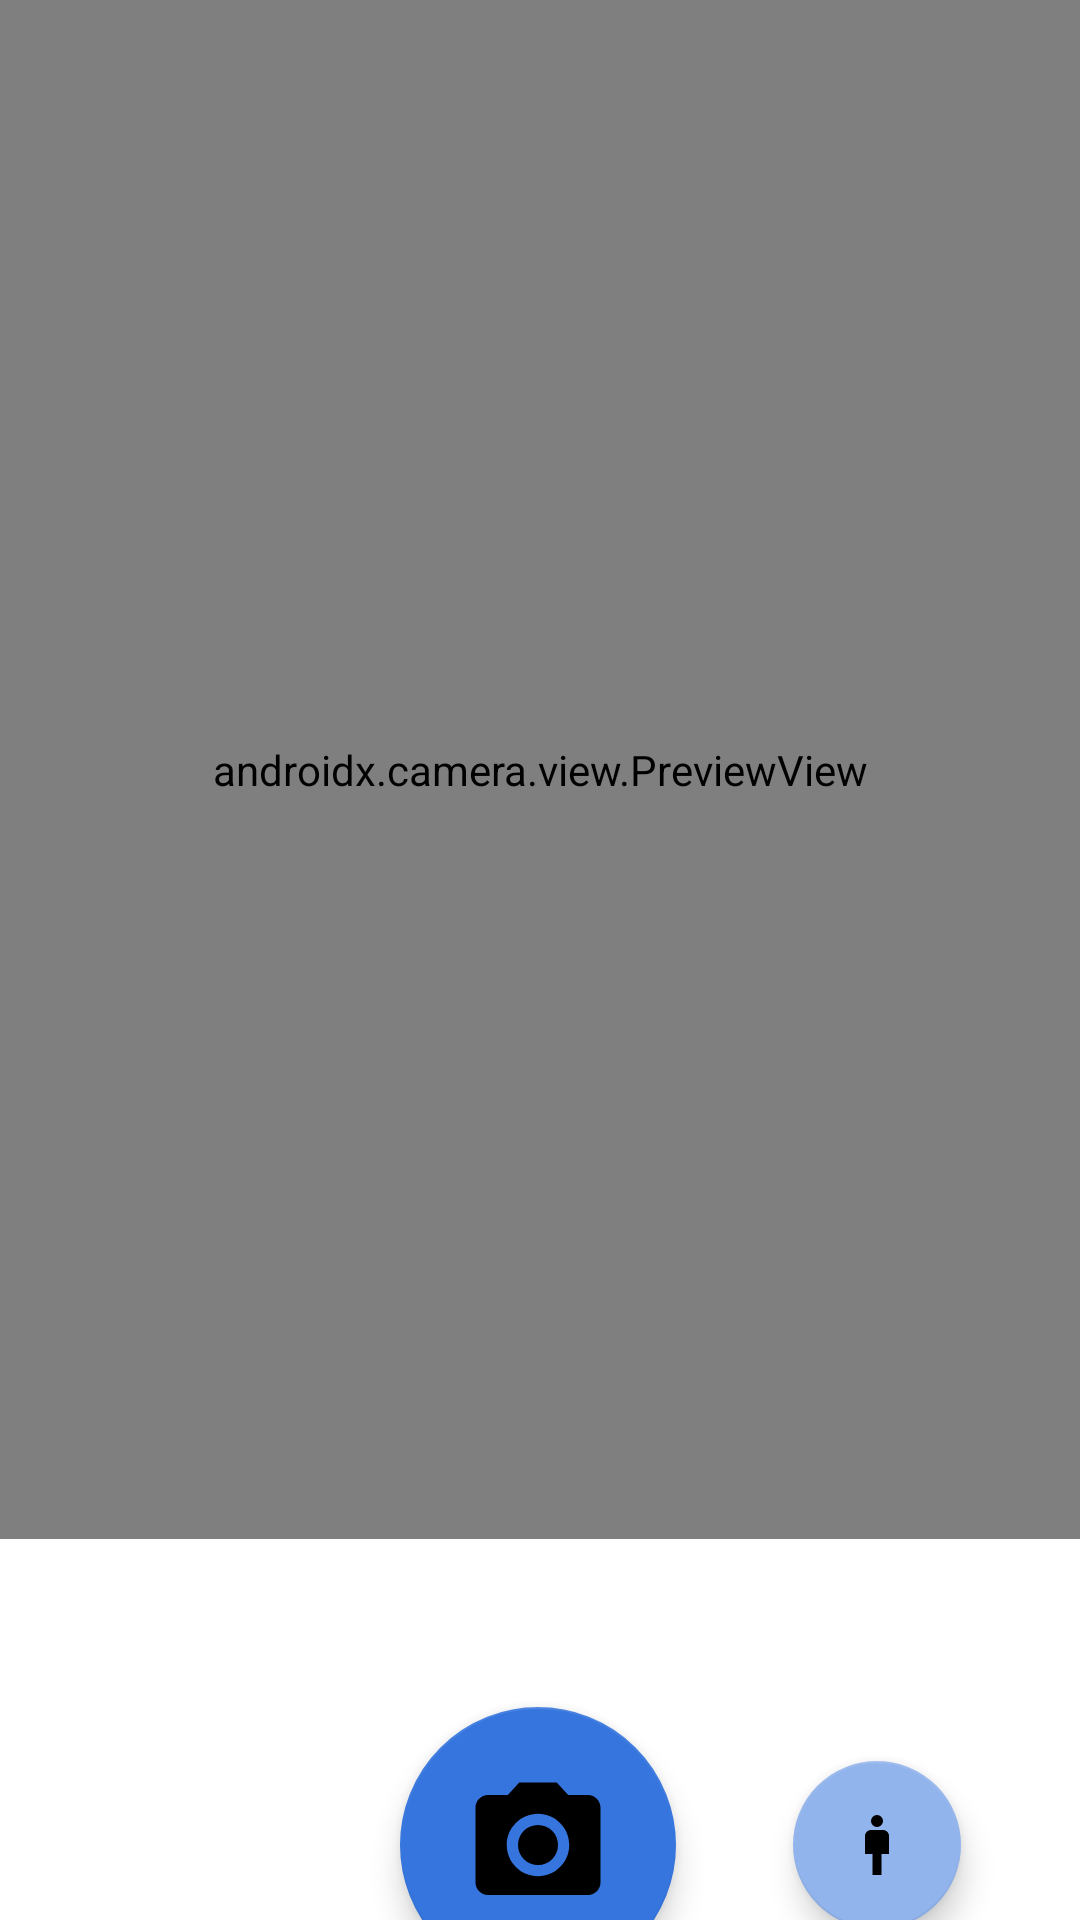

Icon click points for this 1080w x 1920h phone screenshot, format [x,y]:
Pose Button: [877,1840]
